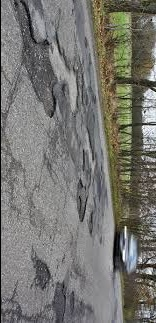pothole: (29, 36, 57, 121), (56, 40, 80, 115), (15, 2, 35, 44), (30, 252, 53, 287), (52, 278, 68, 321), (85, 120, 97, 171), (73, 174, 86, 219), (85, 210, 97, 234), (79, 73, 87, 100), (68, 289, 76, 315), (81, 148, 85, 171)
